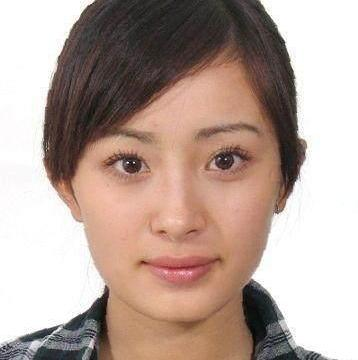unmask: (71, 85, 282, 309)
